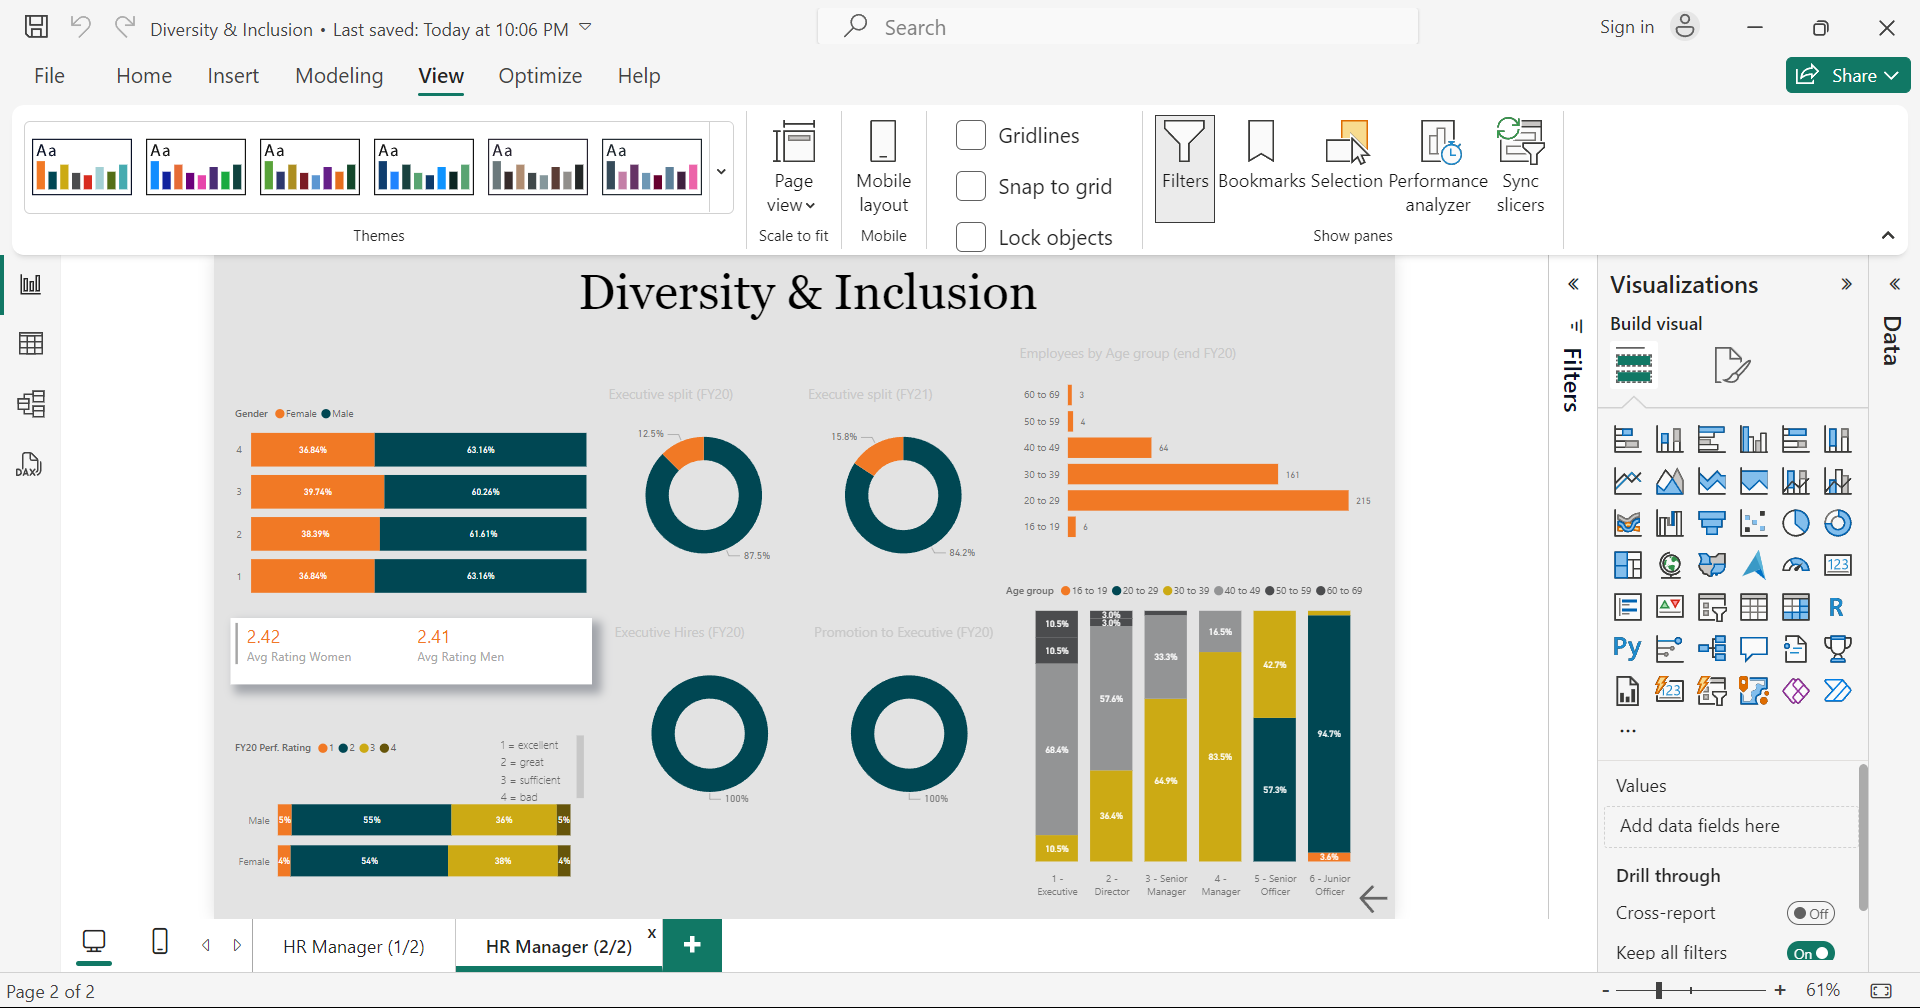

This screenshot's page, from the dashboard's own definition file:
{"tool":"powerbi","page":{"name":"HR Manager (2/2)","canvas":[1280,720],"ordinal":1},"visuals":[{"type":"textbox","box":[390.7,4.7,870.6,75],"z":3000},{"type":"multiRowCard","fields":{"Values":["HR Manager.Avg Rating Women","HR Manager.Avg Rating Men"]},"box":[17.2,393.9,392.3,71.9],"z":8000},{"type":"hundredPercentStackedBarChart","fields":{"Series":["HR Manager.FY20 Performance Rating"],"Category":["HR Manager.Gender"],"Y":["CountNonNull(HR Manager.Employee ID)"]},"box":[17.2,515.8,373.6,204.8],"z":9000},{"type":"image","box":[854.5,413.3,6.7,35.7],"z":10000},{"type":"hundredPercentStackedBarChart","fields":{"Category":["HR Manager.FY20 Performance Rating"],"Series":["HR Manager.Gender"],"Y":["Count(HR Manager.Employee ID)"]},"box":[17.2,153.2,390.7,225.1],"z":21000},{"type":"textbox","box":[306,516,100.5,81.5],"z":22000},{"type":"donutChart","title":"Executive split (FY21)","fields":{"Category":["HR Manager.Gender"],"Y":["CountNonNull(HR Manager.Employee ID)"]},"box":[639.3,139.1,215.7,220.4],"z":23000},{"type":"donutChart","title":"Executive split (FY20)","fields":{"Category":["HR Manager.Gender"],"Y":["CountNonNull(HR Manager.Employee ID)"]},"box":[423.6,139.1,215.7,220.4],"z":24000},{"type":"donutChart","title":"Executive Hires (FY20)","fields":{"Category":["HR Manager.Gender"],"Y":["CountNonNull(HR Manager.Employee ID)"]},"box":[429.8,398.6,215.7,220.4],"z":25000},{"type":"donutChart","title":"Promotion to Executive (FY20)","fields":{"Category":["HR Manager.Gender"],"Y":["CountNonNull(HR Manager.Employee ID)"]},"box":[645.5,398.6,215.7,220.4],"z":26000},{"type":"clusteredBarChart","title":"Employees by Age group (end FY20)","fields":{"Category":["HR Manager.Age group"],"Y":["CountNonNull(HR Manager.Employee ID)"]},"box":[869,95.3,392.3,226.6],"z":28000},{"type":"hundredPercentStackedColumnChart","fields":{"Category":["HR Manager.Job Level after FY21 promotions"],"Series":["HR Manager.Age group"],"Y":["CountNonNull(HR Manager.Employee ID)"]},"box":[853.4,345.4,407.9,359.5],"z":29000},{"type":"actionButton","box":[1237.6,679.1,42.4,40.5],"z":31000},{"type":"textbox","box":[7.7,689.7,397.4,29.9],"z":32000}]}

Visuals, with their boxes on the page's 1280x720 design canvas (x1, y1, x2, y2). These are canvas units, not pixel positions in the 1920x1008 screenshot, which may show the page scaled, cropped or inside an application window:
textbox: <region>391, 5, 1261, 80</region>
multiRowCard - HR Manager.Avg Rating Women x HR Manager.Avg Rating Men: <region>17, 394, 410, 466</region>
hundredPercentStackedBarChart - HR Manager.FY20 Performance Rating x HR Manager.Gender: <region>17, 516, 391, 721</region>
image: <region>854, 413, 861, 449</region>
hundredPercentStackedBarChart - HR Manager.FY20 Performance Rating x HR Manager.Gender: <region>17, 153, 408, 378</region>
textbox: <region>306, 516, 406, 598</region>
"Executive split (FY21)" donutChart: <region>639, 139, 855, 360</region>
"Executive split (FY20)" donutChart: <region>424, 139, 639, 360</region>
"Executive Hires (FY20)" donutChart: <region>430, 399, 646, 619</region>
"Promotion to Executive (FY20)" donutChart: <region>646, 399, 861, 619</region>
"Employees by Age group (end FY20)" clusteredBarChart: <region>869, 95, 1261, 322</region>
hundredPercentStackedColumnChart - HR Manager.Job Level after FY21 promotions x HR Manager.Age group: <region>853, 345, 1261, 705</region>
actionButton: <region>1238, 679, 1280, 720</region>
textbox: <region>8, 690, 405, 720</region>
